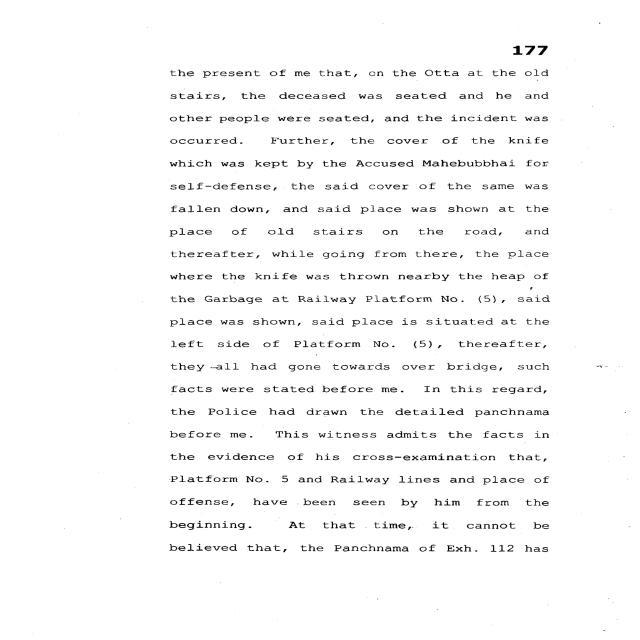page-number: (424, 0, 639, 60)
